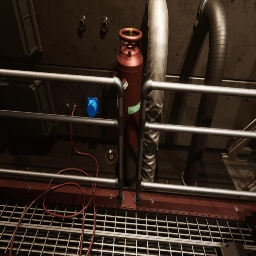NitrogenTank ,: (117, 28, 143, 181)
